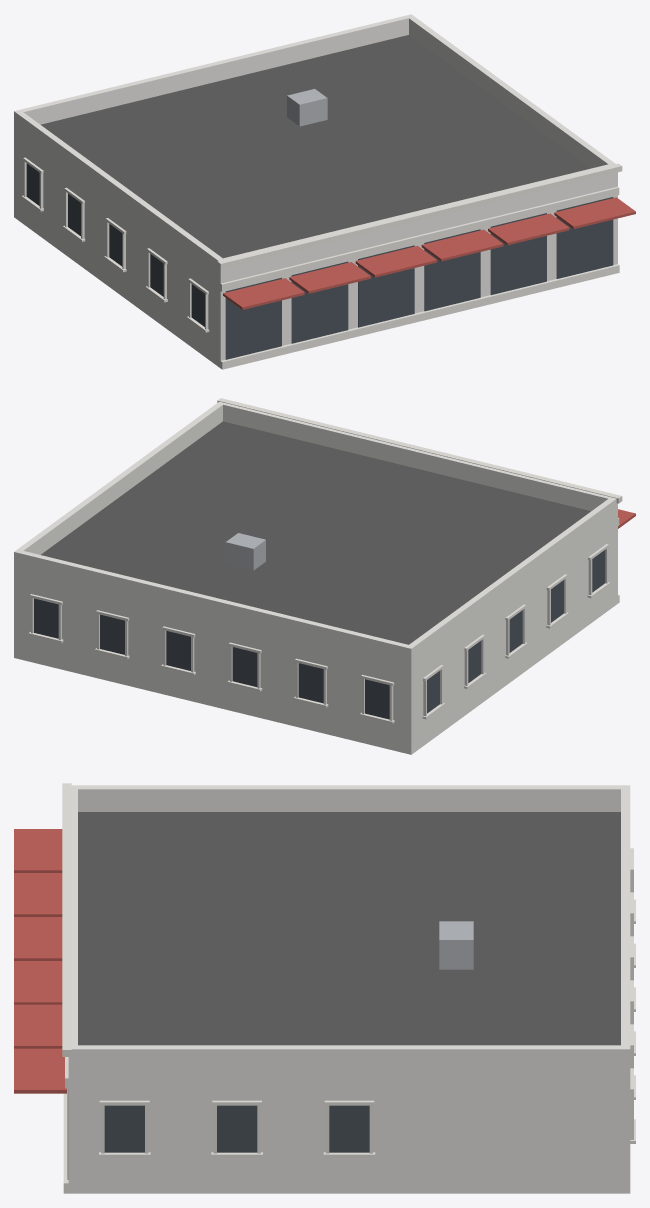
File: SM_Storefront_1F_D.fbx
3 renders of one model, top to bottom at view 1: azimuth 30°, elevation 25°; view 2: azimuth 150°, elevation 25°; view 3: azimuth 270°, elevation 25°, orthographic. The views are drawn at different scales.
Visible parts, largest first — view 1: SM_Storefront_1F_D_LOD0; view 2: SM_Storefront_1F_D_LOD0; view 3: SM_Storefront_1F_D_LOD0.
Part boxes in pixels (x1=…): SM_Storefront_1F_D_LOD0: x1=14, y1=14, x2=635, y2=369; SM_Storefront_1F_D_LOD0: x1=14, y1=398, x2=635, y2=754; SM_Storefront_1F_D_LOD0: x1=14, y1=783, x2=635, y2=1193.
Size of what is drawn, in the model's own units: 20.36 by 5.35 by 19.93.
